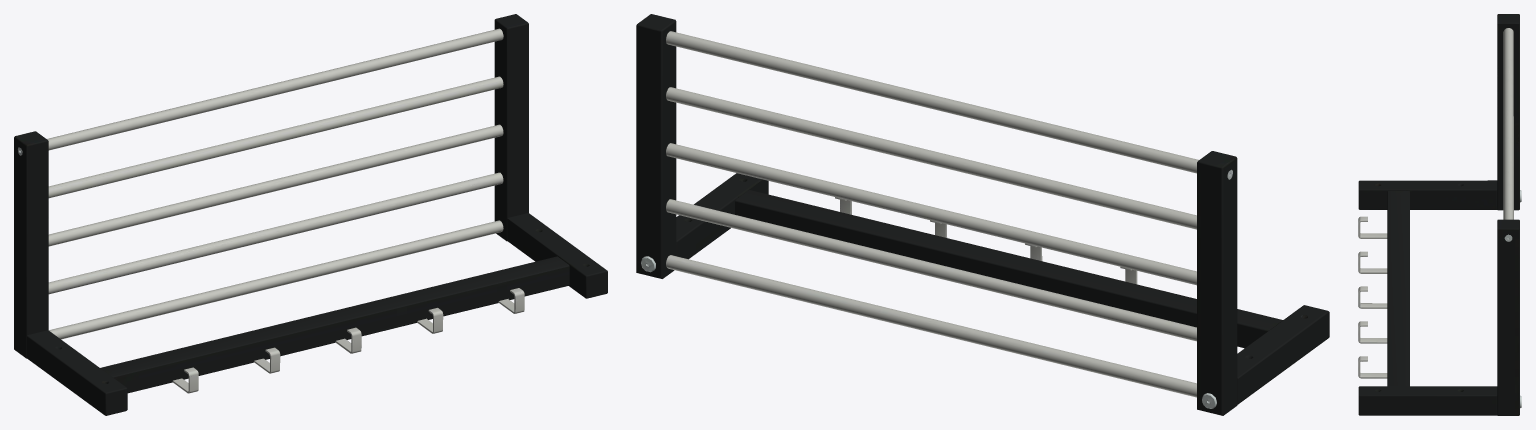
File: 20152634-mini.glb
3 views of the same model, side by side, from view 1: azimuth 30°, elevation 25°; view 2: azimuth 150°, elevation 25°; view 3: azimuth 270°, elevation 25° (orthographic). The views are drawn at different scales.
Visible parts, largest first — view 1: 20152634-TJUSIG001; view 2: 20152634-TJUSIG001; view 3: 20152634-TJUSIG001.
Part boxes in pixels (left/top/right/bottom): 20152634-TJUSIG001: left=14, top=14, right=607, bottom=415; 20152634-TJUSIG001: left=636, top=14, right=1329, bottom=415; 20152634-TJUSIG001: left=1358, top=14, right=1521, bottom=415.
Bounding box in the file's own units: 0.79 × 0.3199 × 0.2532.
Materials: 1 (1 with a texture image).
